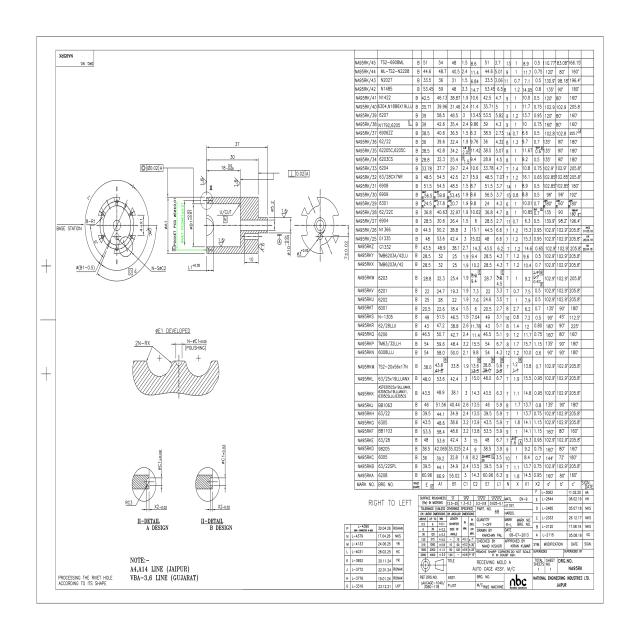dimension: (171, 197, 177, 253), (180, 201, 185, 245), (76, 264, 96, 272), (157, 448, 163, 472), (220, 162, 235, 171), (187, 209, 193, 231), (268, 198, 275, 216), (343, 240, 349, 261), (297, 247, 309, 257), (187, 338, 207, 344), (134, 339, 151, 346), (151, 265, 166, 272), (154, 503, 167, 511), (188, 262, 200, 270), (218, 503, 230, 511), (286, 234, 290, 257), (280, 208, 289, 218), (222, 444, 226, 466), (218, 237, 226, 248), (233, 177, 241, 188), (85, 218, 96, 225), (139, 218, 144, 233), (200, 175, 206, 187), (146, 226, 153, 236), (260, 242, 265, 255), (234, 140, 240, 148), (164, 220, 168, 232), (125, 500, 133, 506), (230, 154, 236, 160), (249, 256, 254, 263), (94, 238, 99, 245), (87, 195, 91, 201)
